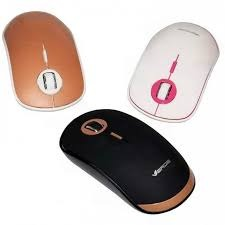mouse: (63, 104, 197, 219), (126, 15, 221, 118), (0, 5, 87, 109)
